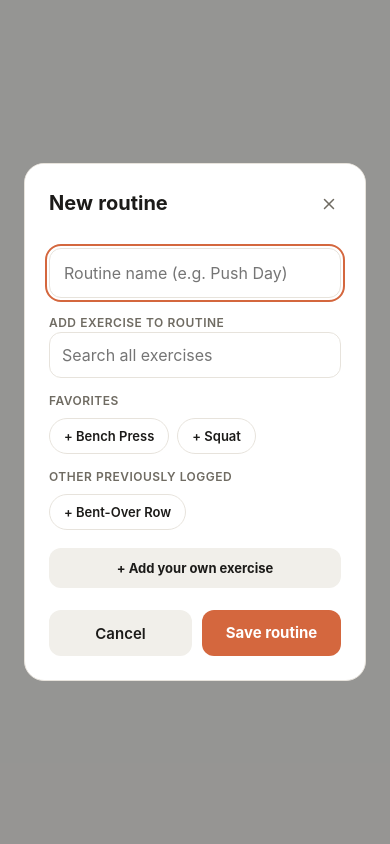
Test: RoutineFormModal validation › shows an error and does not save when the name is blank
The width and height of the screenshot is (390, 844).
Click the button "+ Bench Press" at (109, 436), box [49,418,169,454]
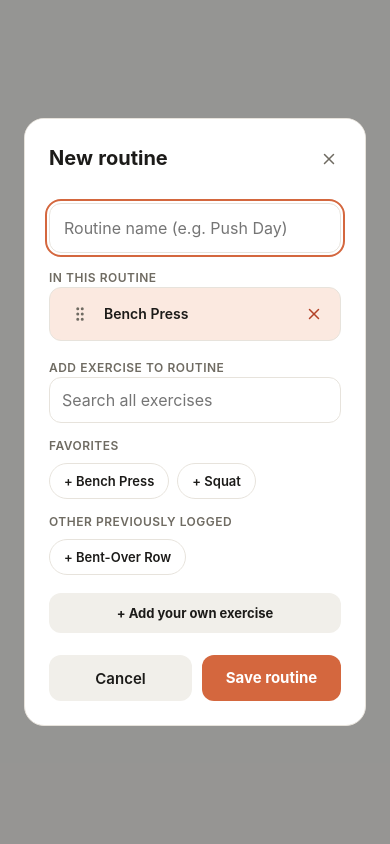
Click the button "Save routine" at (272, 678), box [202,655,341,701]
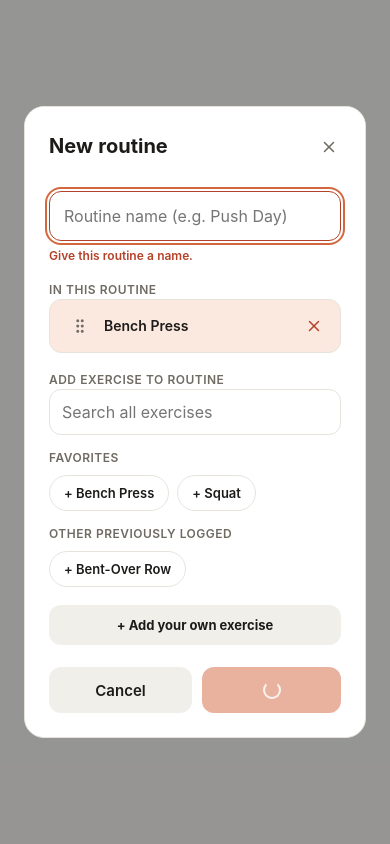
Expected: the text "Give this routine a name." is shown, [49,248,192,263]
Type "Push Day" into the field with placeholder "Routine name (e.g. Push Day)" at (195, 216), box [49,191,341,241]
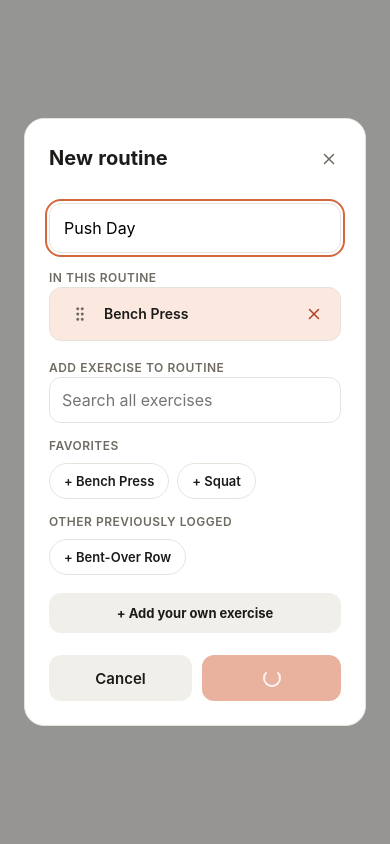
Expected: the text "Give this routine a name." is gone
